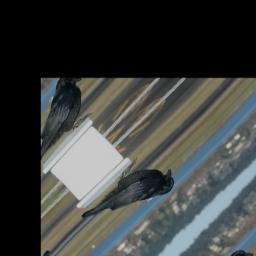Crow: (78, 146, 182, 251)
